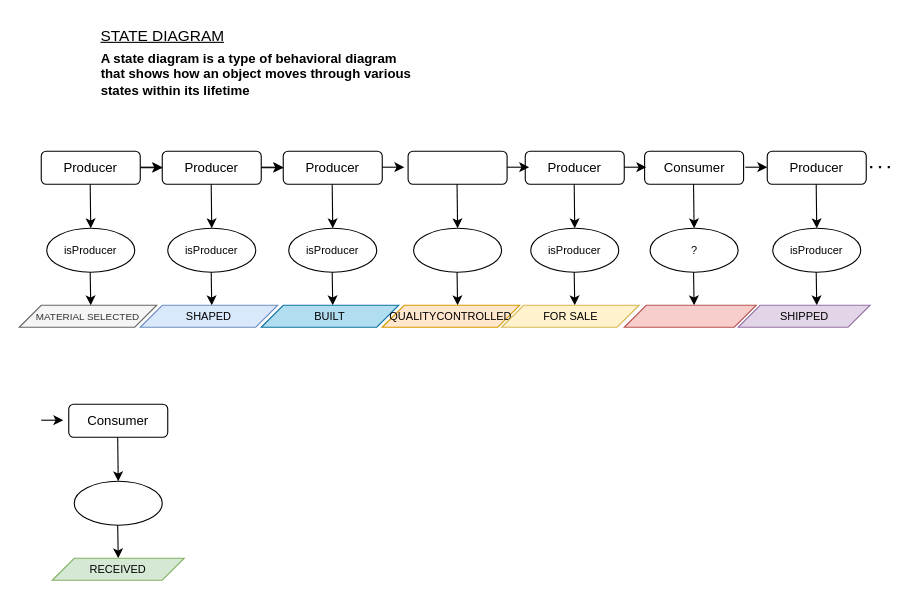
The diagram is 913 pixels wide and 600 high, and some of its shapes have lost their labels. The shapes that lost their labels are listed below. From the top down, each one's centre as x and y in pixels, then its label:
At [457,167]: "Quality controller".
At [457,249]: "isQualityController".
At [689,315]: "SOLD".
At [117,502]: "isConsumer".
